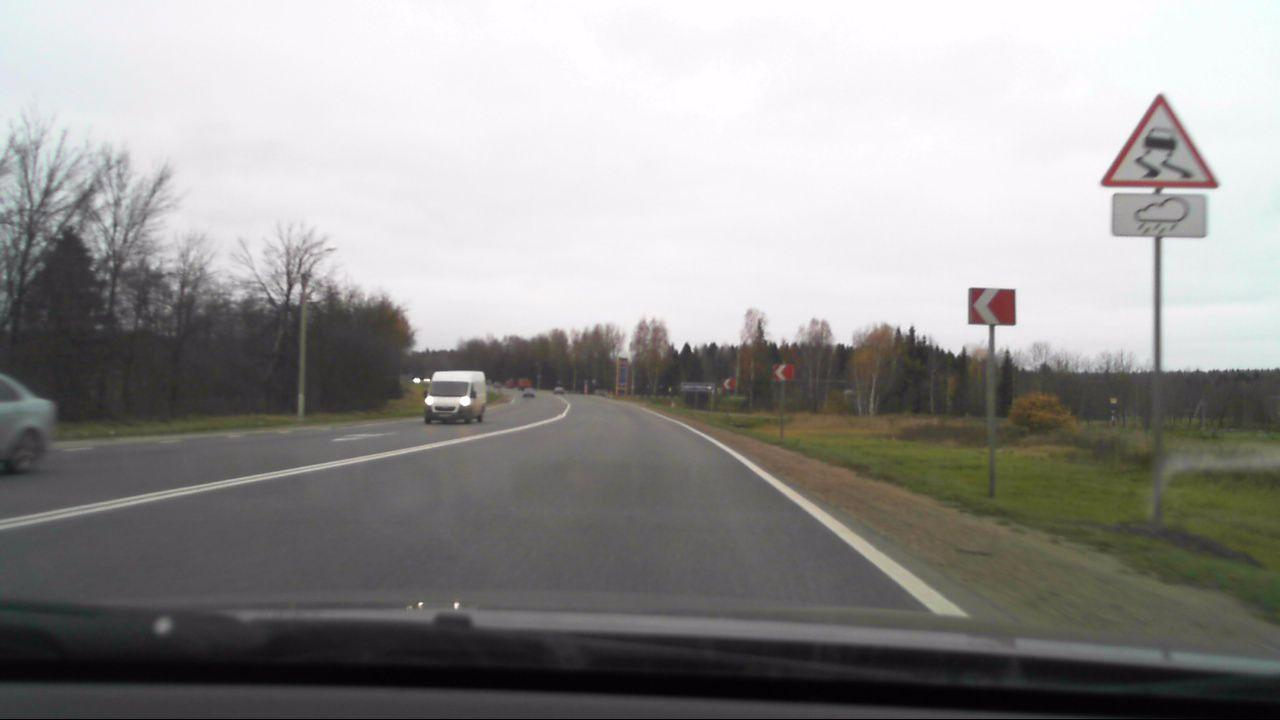1_15: (1099, 89, 1220, 189)
1_34_2: (966, 284, 1024, 329), (772, 364, 795, 382), (720, 375, 736, 390)
8_16: (1108, 189, 1210, 239)
